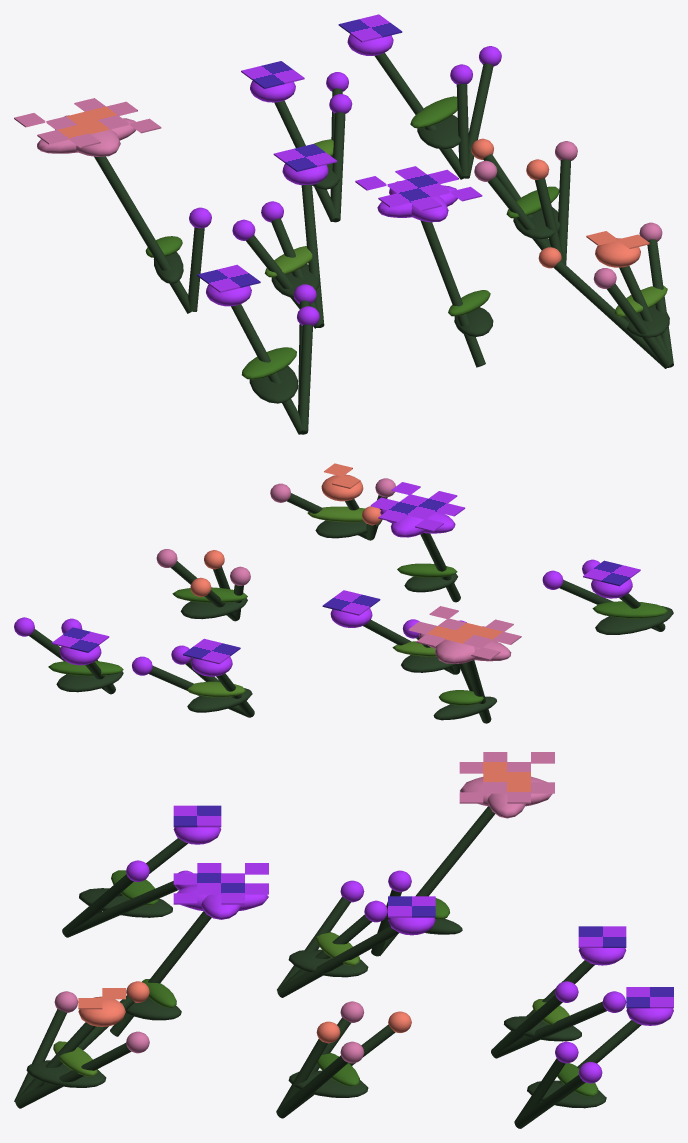
The model's file is CMU3DFlowerspv2.glb.
The picture shows the model from 3 angles, top to bottom: view 1: azimuth 30°, elevation 25°; view 2: azimuth 150°, elevation 25°; view 3: azimuth 270°, elevation 25°; orthographic projection. The views are drawn at different scales.
Visible parts, largest first — view 1: bloom 7 original petal colors, bloom 16 original petal colors, bloom 7 branching stem, bloom 16 branching stem, bloom 20 branching stem, bloom 8 branching stem, bloom 1 branching stem, bloom 17 branching stem, bloom 19 branching stem, foliage 6 low leaf, bloom 1 original petal colors, bloom 8 original petal colors (+32 smaller); view 2: bloom 7 original petal colors, bloom 16 original petal colors, foliage 6 low leaf, foliage 6 raised leaf, bloom 1 original petal colors, bloom 2 original petal colors, bloom 8 original petal colors, bloom 17 original petal colors, foliage 1 low leaf, foliage 5 low leaf, foliage 2 low leaf, foliage 8 low leaf (+25 smaller); view 3: bloom 7 original petal colors, bloom 16 original petal colors, bloom 8 branching stem, bloom 7 branching stem, bloom 16 branching stem, bloom 18 branching stem, bloom 21 branching stem, bloom 3 branching stem, bloom 17 original petal colors, foliage 8 low leaf, bloom 2 original petal colors, foliage 6 low leaf (+33 smaller).
Boxes of the visible parts, box(x1,y1,x2,y2) form: bloom 7 original petal colors: box(14, 98, 161, 147); bloom 16 original petal colors: box(355, 166, 482, 211); bloom 7 branching stem: box(94, 156, 191, 313); bloom 16 branching stem: box(421, 220, 485, 367); bloom 20 branching stem: box(554, 260, 667, 368); bloom 8 branching stem: box(301, 184, 324, 327); bloom 1 branching stem: box(374, 53, 464, 179); bloom 17 branching stem: box(231, 304, 303, 434); bloom 19 branching stem: box(298, 324, 312, 432); foliage 6 low leaf: box(249, 366, 298, 403); bloom 1 original petal colors: box(338, 14, 402, 42); bloom 8 original petal colors: box(273, 144, 337, 171); bloom 7 original petal colors: box(408, 606, 521, 660); bloom 16 original petal colors: box(370, 482, 465, 531); foliage 6 low leaf: box(595, 606, 673, 634); foliage 6 raised leaf: box(592, 601, 667, 618); bloom 1 original petal colors: box(51, 627, 109, 652); bloom 2 original petal colors: box(183, 638, 240, 664); bloom 8 original petal colors: box(322, 590, 380, 615); bloom 17 original petal colors: box(583, 560, 640, 586); foliage 1 low leaf: box(56, 671, 123, 692); foliage 5 low leaf: box(180, 598, 247, 619); foliage 2 low leaf: box(187, 688, 252, 712); foliage 8 low leaf: box(315, 519, 382, 538); bloom 7 original petal colors: box(459, 752, 554, 803); bloom 16 original petal colors: box(173, 863, 268, 904); bloom 8 branching stem: box(277, 926, 398, 997); bloom 7 branching stem: box(380, 806, 494, 955); bloom 16 branching stem: box(110, 911, 211, 1036); bloom 18 branching stem: box(64, 881, 178, 937); bloom 21 branching stem: box(15, 1043, 131, 1108); bloom 3 branching stem: box(492, 1001, 606, 1058); bloom 17 original petal colors: box(173, 805, 221, 827); foliage 8 low leaf: box(26, 1060, 106, 1087); bloom 2 original petal colors: box(578, 926, 626, 947); foliage 6 low leaf: box(79, 888, 172, 917).
Size of the model in its own units: 0.7812 by 0.2309 by 0.8657.
11 materials, 5 textured.
